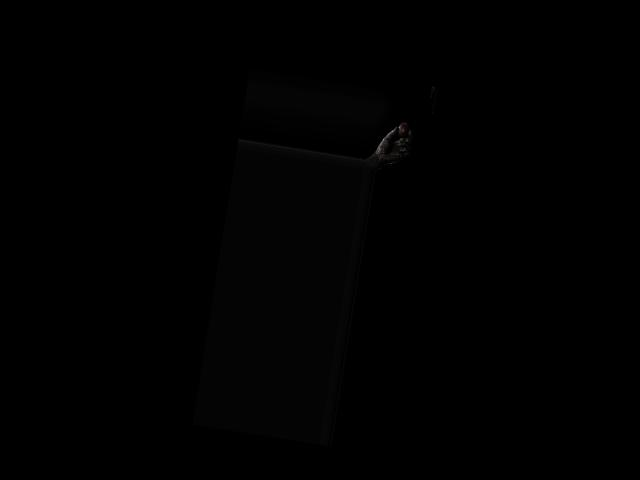egg: (396, 122, 410, 139)
